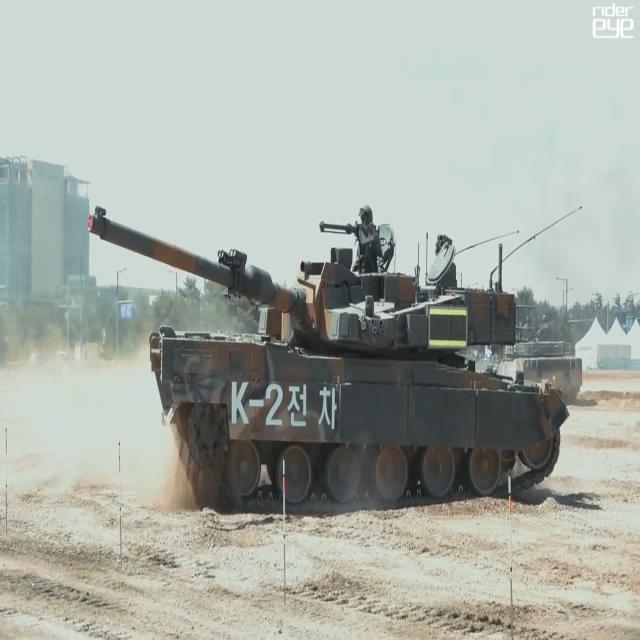korea tank: (88, 204, 570, 510)
